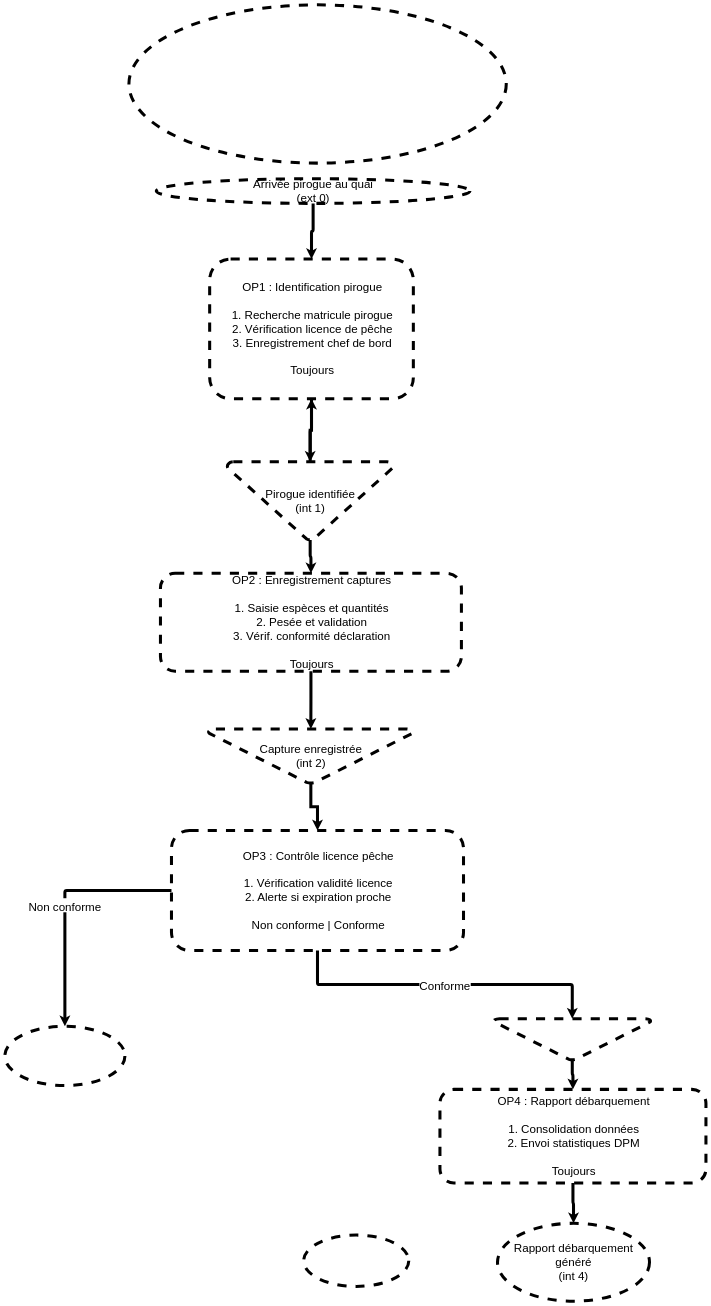
Some shapes in this 711 by 1306 pixel diagram are drawn without their labels. Here are the shapes that lost their labels. From the top down, the box of each, then its label:
(127, 3, 508, 165): GESTION DU DEBARQUEMENT
(3, 1025, 126, 1087): Alerte renouvellement (int 3a)
(492, 1017, 652, 1061): Licence validée (int 3b)
(302, 1233, 410, 1288): DPM (ext 1)
